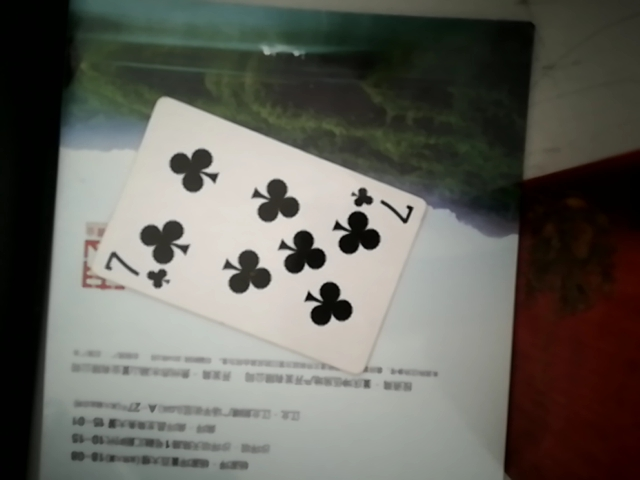mh 7: (64, 95, 433, 372)
